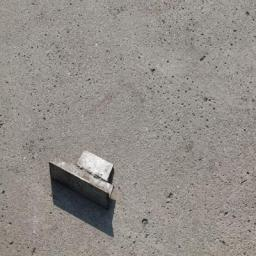FOD: (48, 147, 126, 217)
